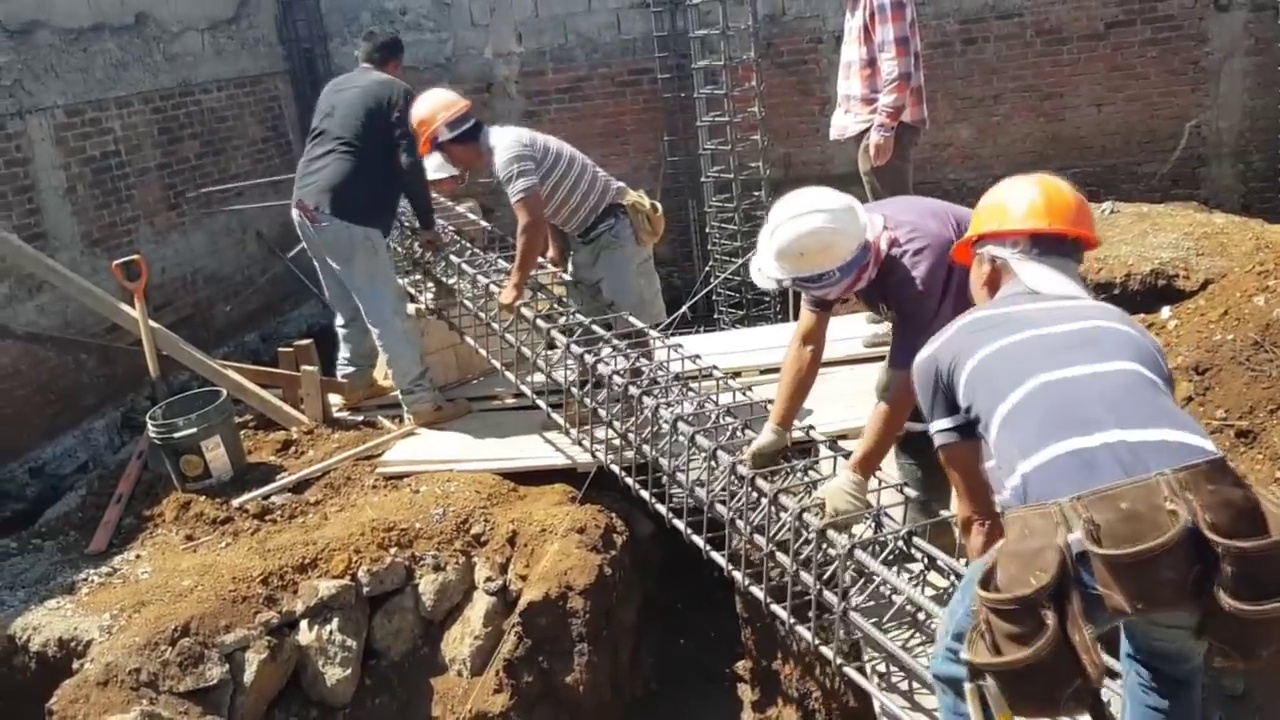helmet: (961, 175, 1107, 267), (753, 182, 873, 290), (411, 87, 471, 161)
helmet-off: (357, 30, 402, 76)
helmet-on: (948, 174, 1117, 322), (752, 182, 896, 307), (409, 87, 491, 192)
person: (864, 172, 1275, 720), (740, 181, 1017, 572), (410, 85, 661, 362), (300, 31, 443, 420), (830, 0, 920, 194)
